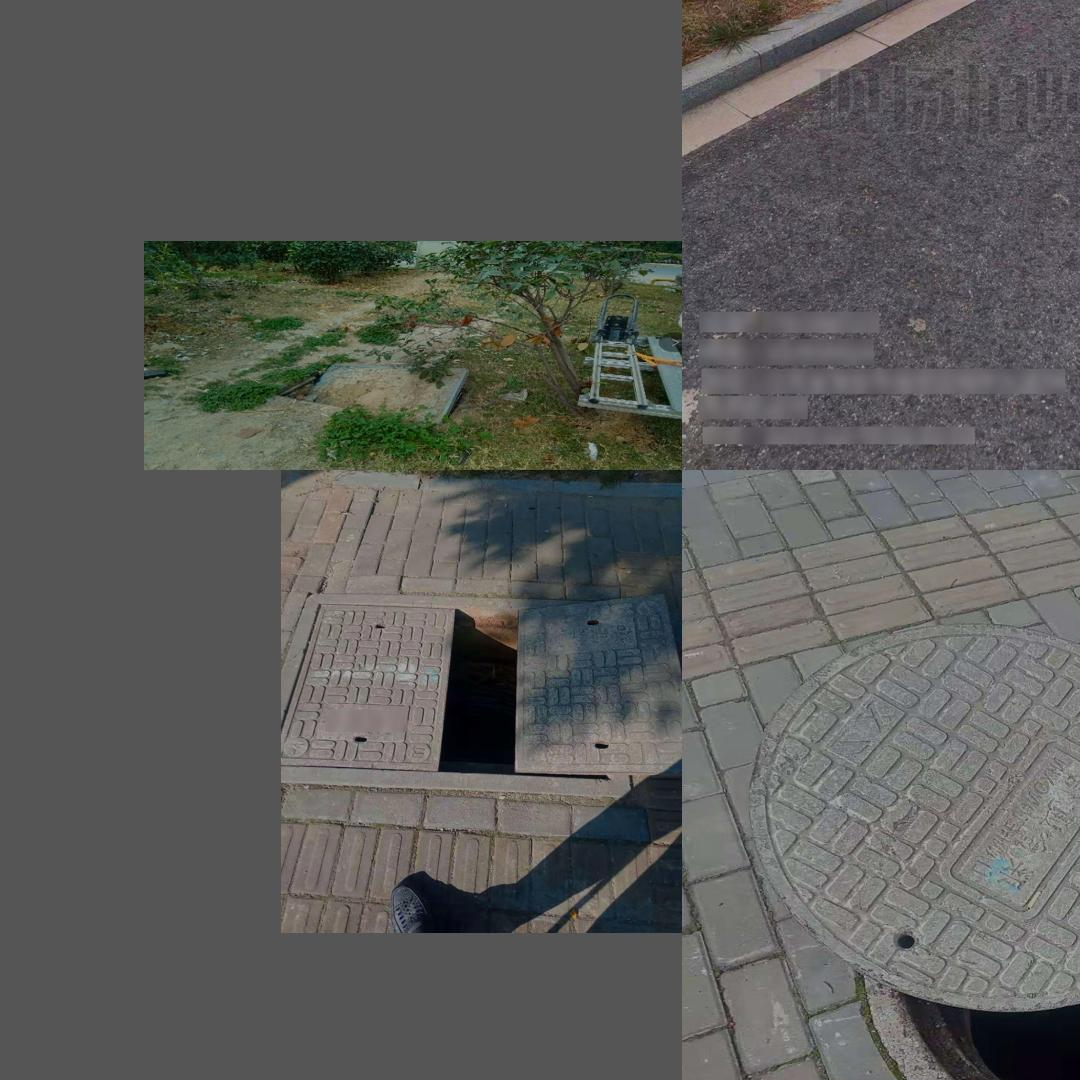uncovered: (743, 629, 1080, 1080), (317, 582, 674, 794), (274, 354, 490, 421)
